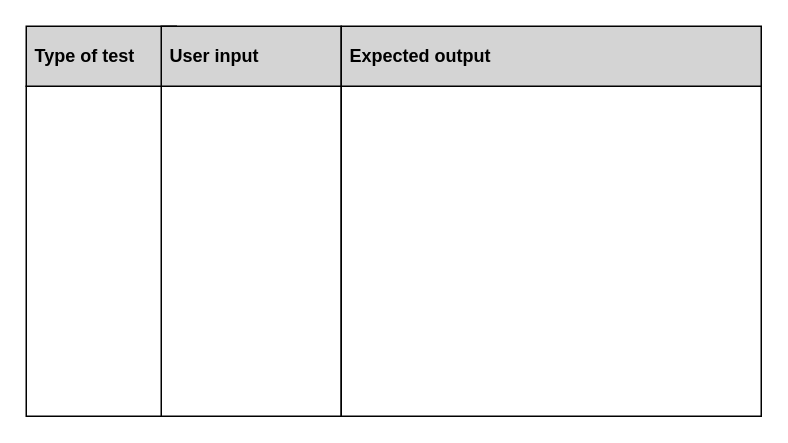
The diagram is 788 pixels wide and 443 high, and some of its shapes have lost their labels. The box of each missing label's shape, as (x1, y1, x2, y2) in pixels:
Normal: (25, 85, 176, 416)
Selection 1: lemon Selection 2: pear Selection 3: peach Selection 4: orange: (160, 85, 341, 416)
